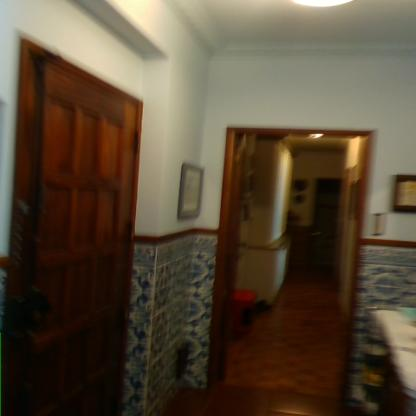open: (214, 120, 373, 404)
